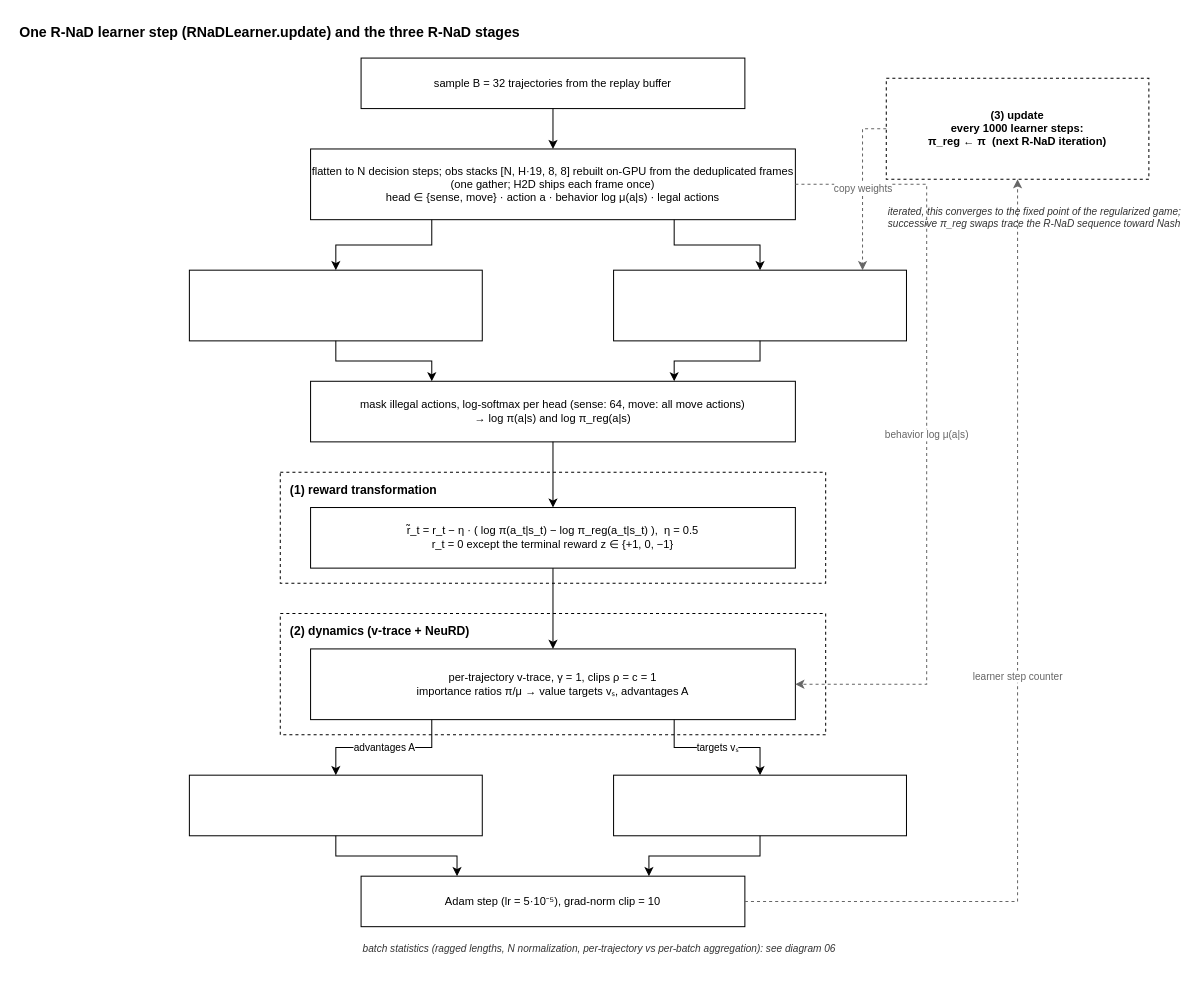
Some shapes in this 1201 by 994 pixel diagram are drawn without their labels. Each missing label, with the centre of its shape:
"current network θ (trainable) → value v(s), logits per head" belongs at (335,305).
"frozen regularization net π_reg → regularization logits (no grad)" belongs at (759,305).
"policy loss — NeuRD (logit space) threshold β = 2.5, all-actions form" belongs at (335,805).
"value loss — MSE(v, vₛ), coef 1.0" belongs at (759,805).
